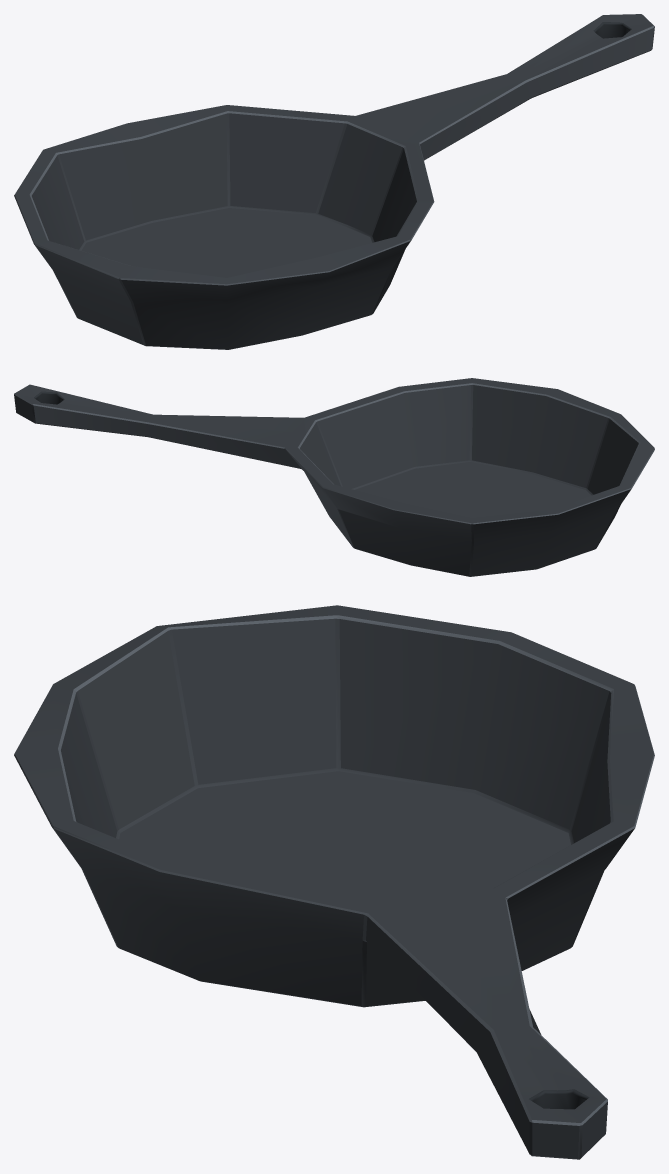
Rendered from UD_SFK_Frying_Pan.fbx.
3 views of the same model, one above another, from view 1: azimuth 30°, elevation 25°; view 2: azimuth 150°, elevation 25°; view 3: azimuth 270°, elevation 25° (orthographic). The views are drawn at different scales.
Visible parts, largest first — view 1: Frying_Pan; view 2: Frying_Pan; view 3: Frying_Pan.
Boxes of the visible parts, left/top/right/bottom form: Frying_Pan: left=14, top=14, right=654, bottom=349; Frying_Pan: left=14, top=378, right=654, bottom=576; Frying_Pan: left=14, top=605, right=654, bottom=1159.
Size of the model in its own units: 58.92 by 7.67 by 30.18.
